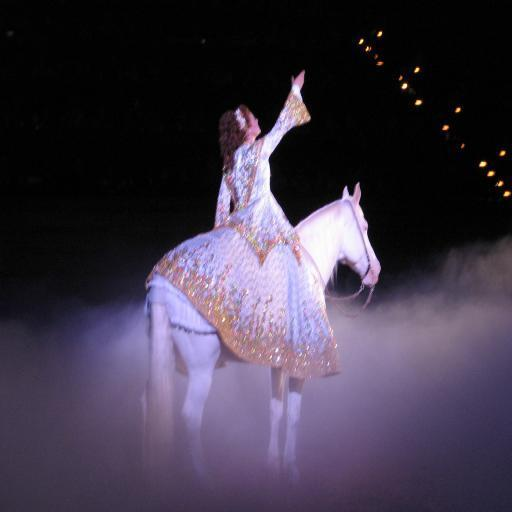horse: (140, 180, 379, 486)
